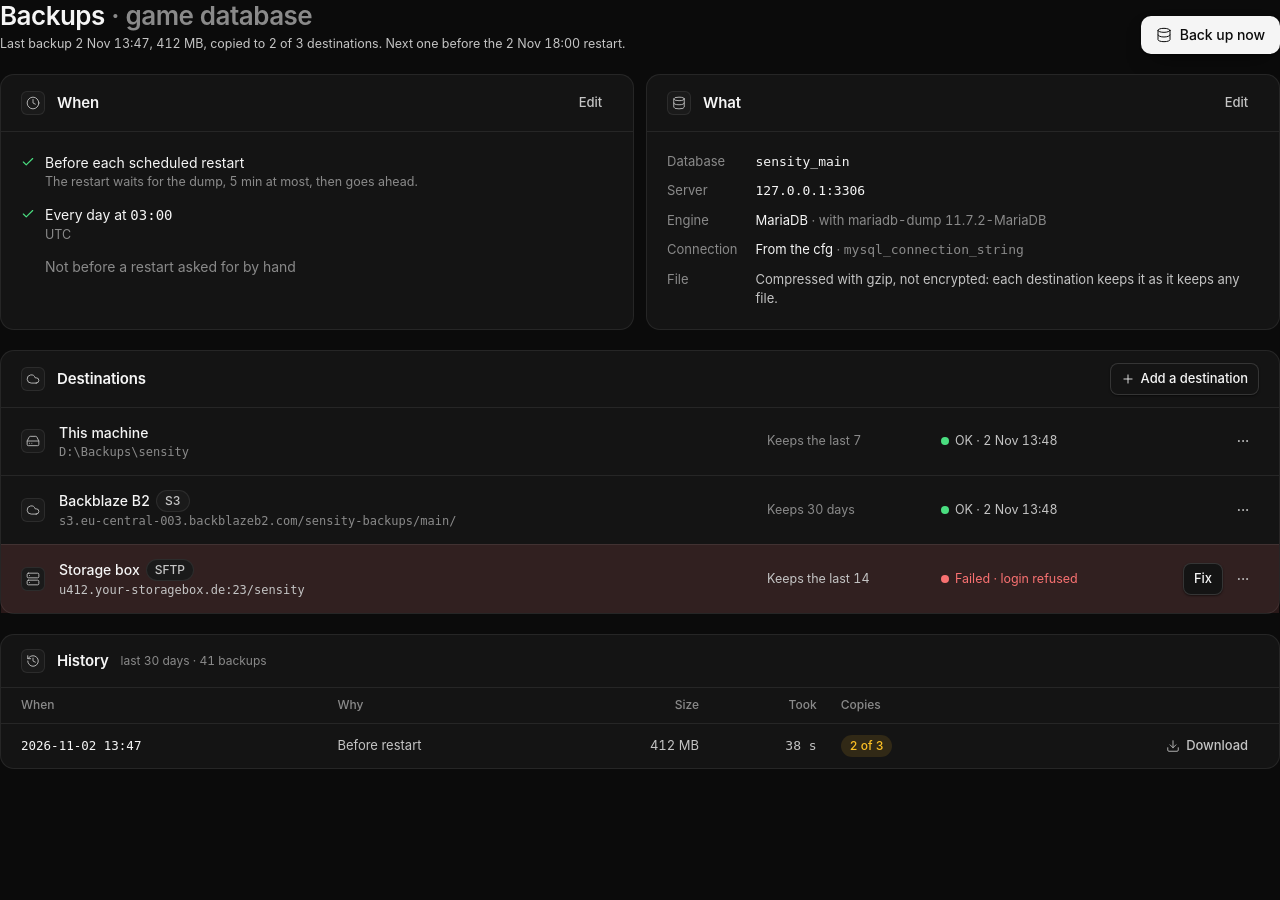
Test case: BackupsPage › should show Observer's key once an SFTP destination that logs in with it is added
Click the button "Add a destination" at (1184, 379), box [1110,363,1259,395]
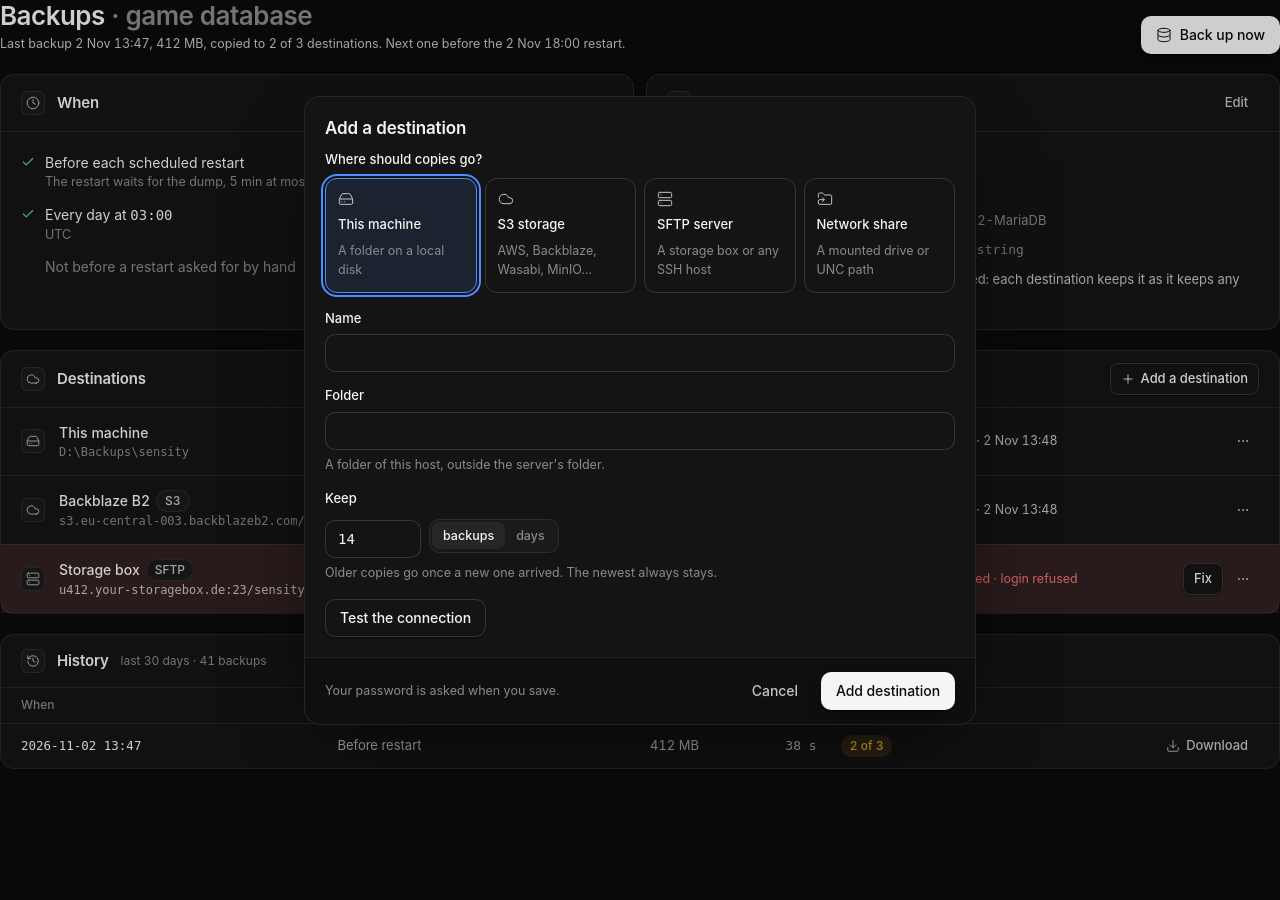
Click the radio button labelled "SFTP server A storage box or any SSH host" at (720, 235), box [644,178,796,293]
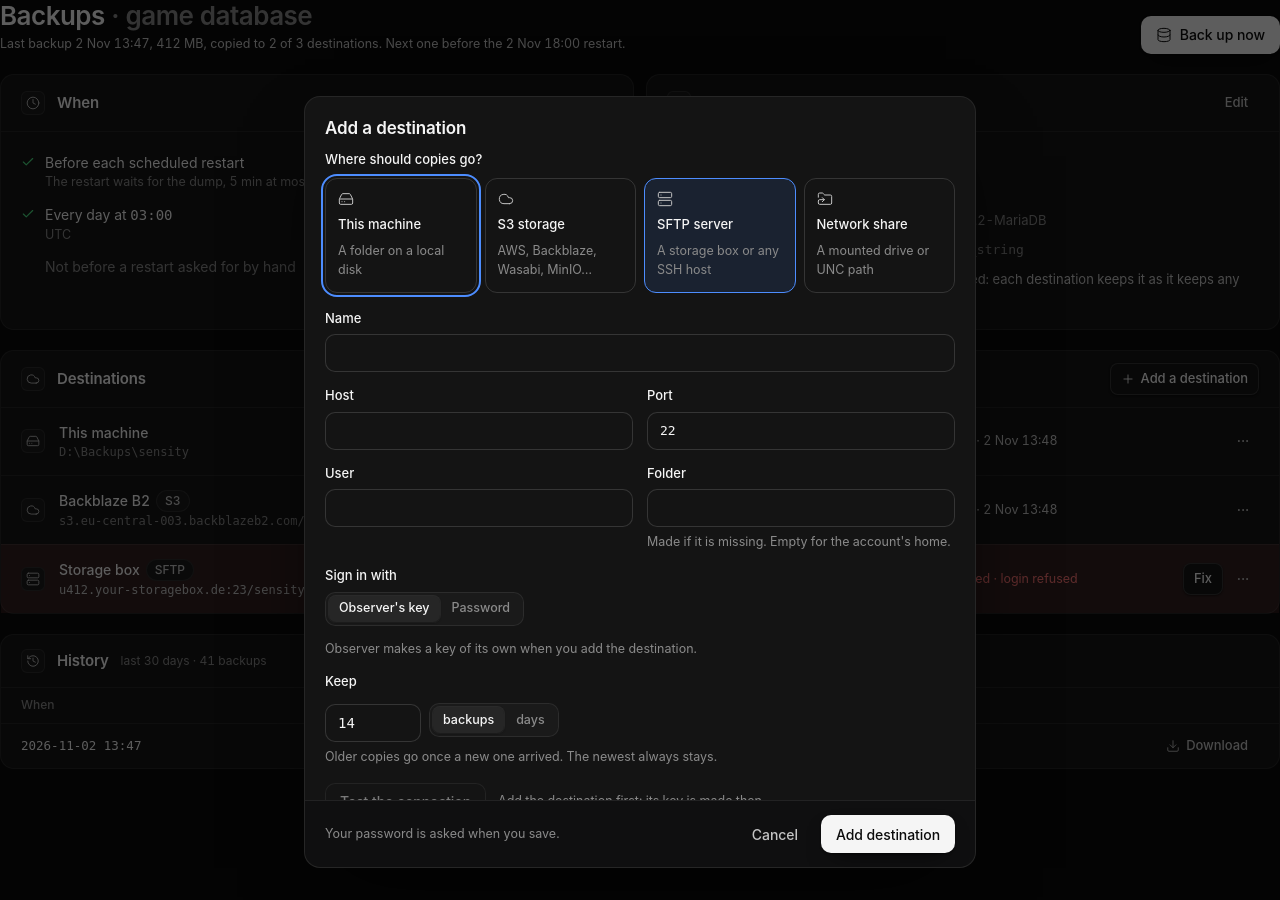
Type "Offsite" into the field labelled "Name" at (640, 353), box [325,334,955,372]
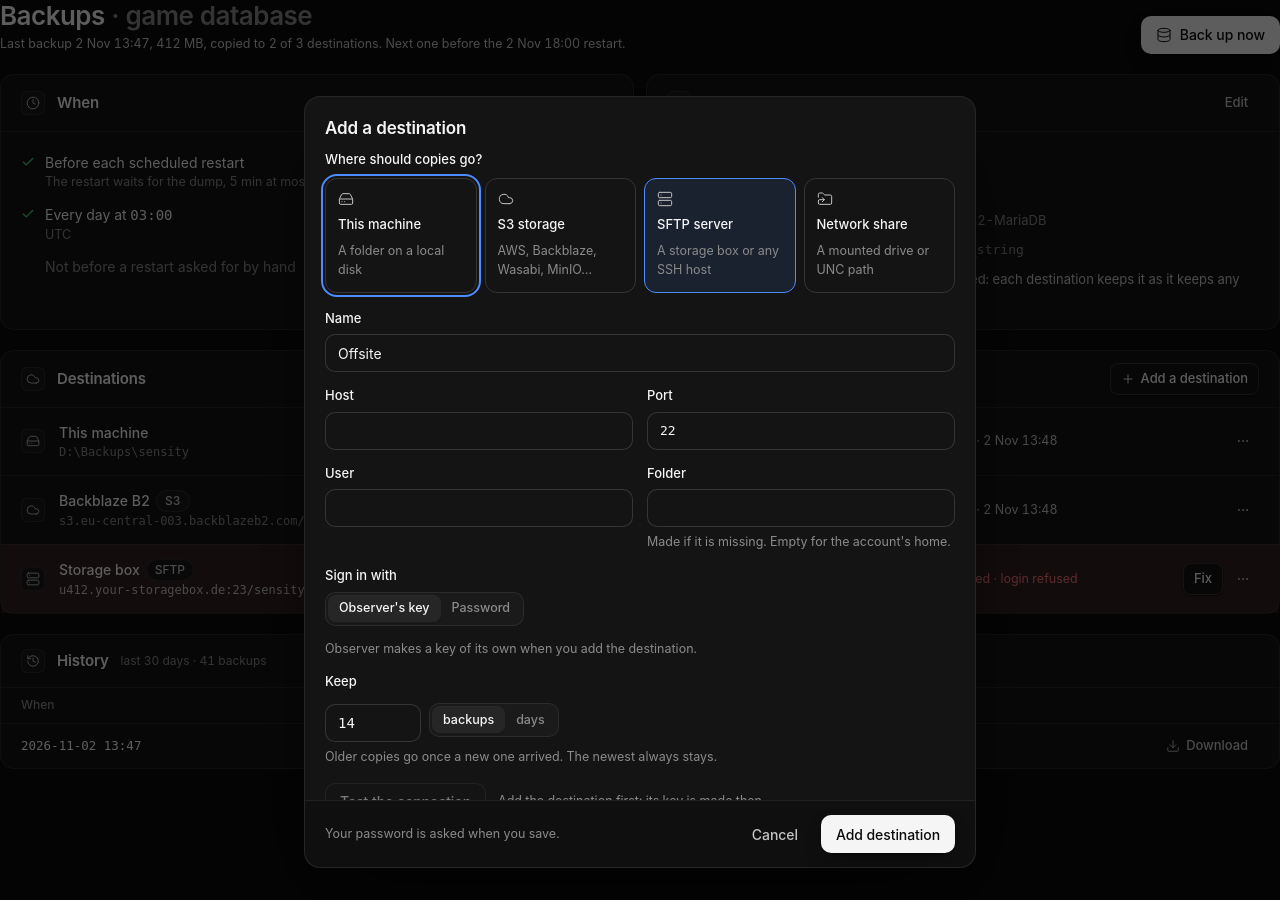
Type "backup.example.net" into the field labelled "Host" at (479, 431), box [325,412,633,450]
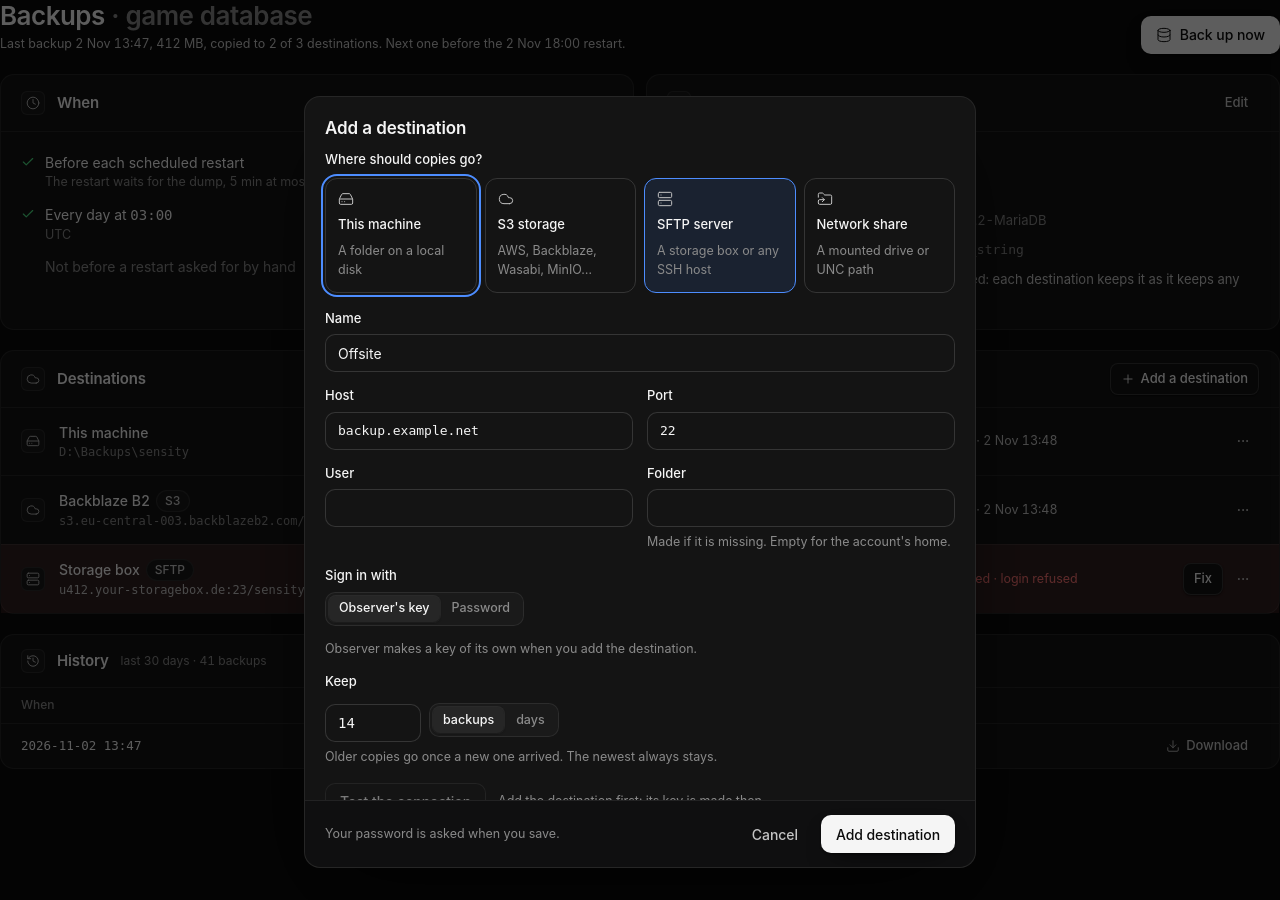
Type "fivem" into the field labelled "User" at (479, 508), box [325,489,633,527]
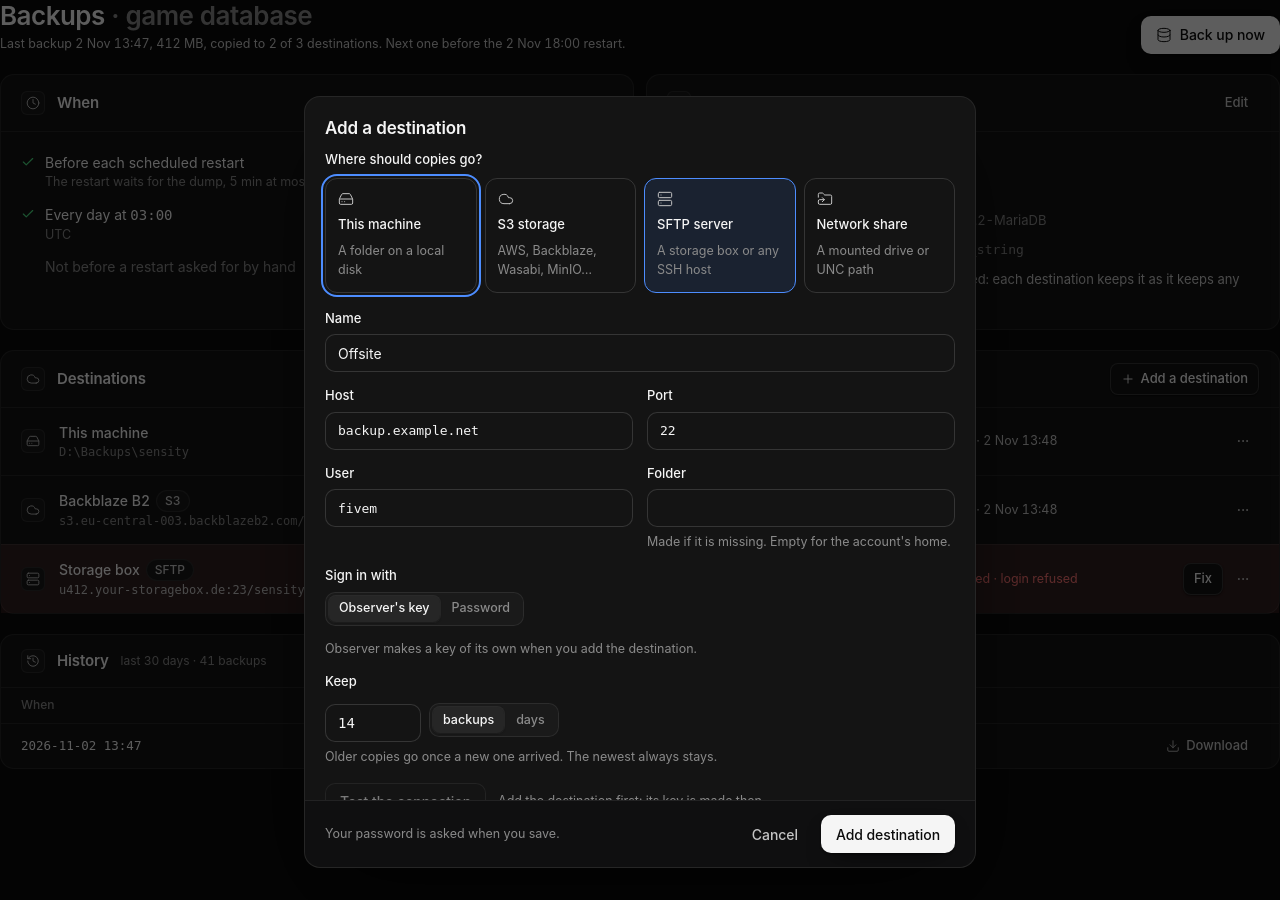
Click the button "Add destination" at (888, 834), box [821,815,955,853]
(page scrolled)
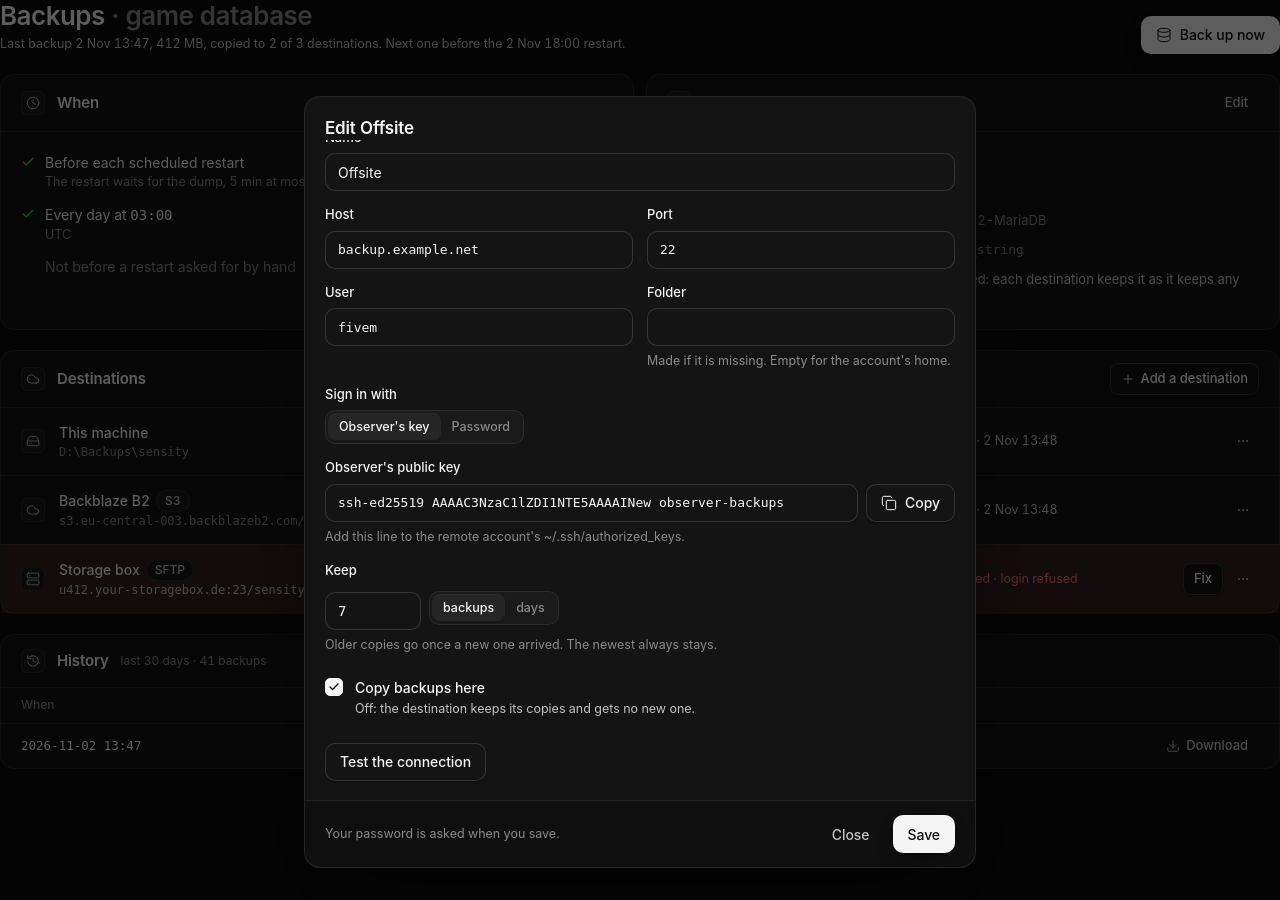
Expected: the field labelled "Observer's public key" holds "ssh-ed25519 AAAAC3NzaC1lZDI1NTE5AAAAINew observer-backups", [325,484,858,522]
Expected: the button "Test the connection" is enabled, [325,743,486,781]
